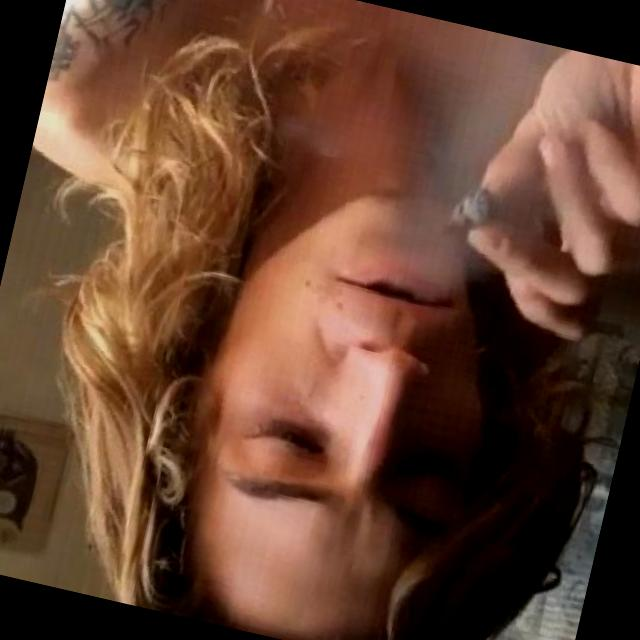cigarette: (425, 161, 577, 305)
